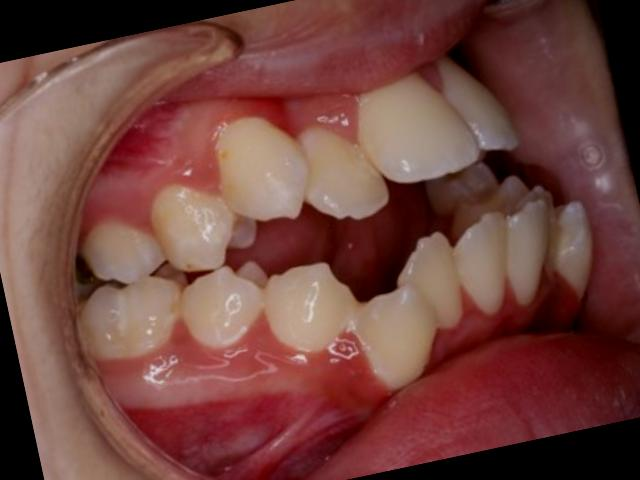canine class III 1/2: (201, 78, 447, 412)
molar class II 1/2: (52, 196, 195, 384)
